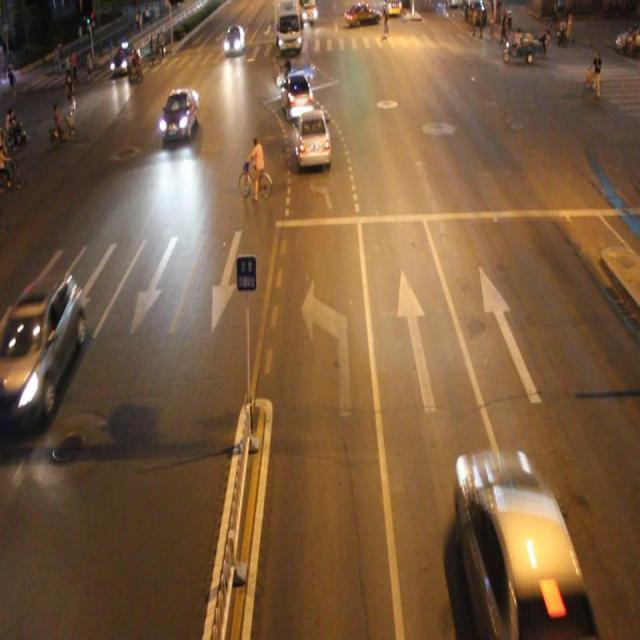car: (455, 452, 597, 640), (0, 272, 86, 432), (295, 104, 334, 164), (160, 85, 199, 141), (280, 67, 316, 119)
